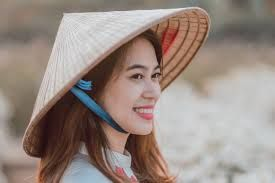no-mask: (109, 36, 166, 139)
